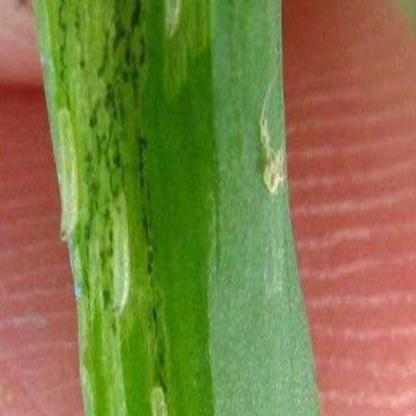whorl-maggot: (110, 186, 134, 320), (56, 104, 77, 248)
